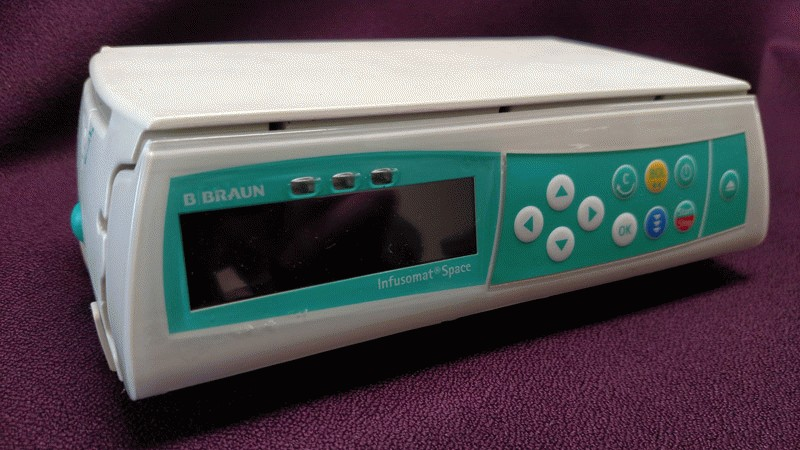BBraun Infusomat Space: (65, 35, 780, 404)
